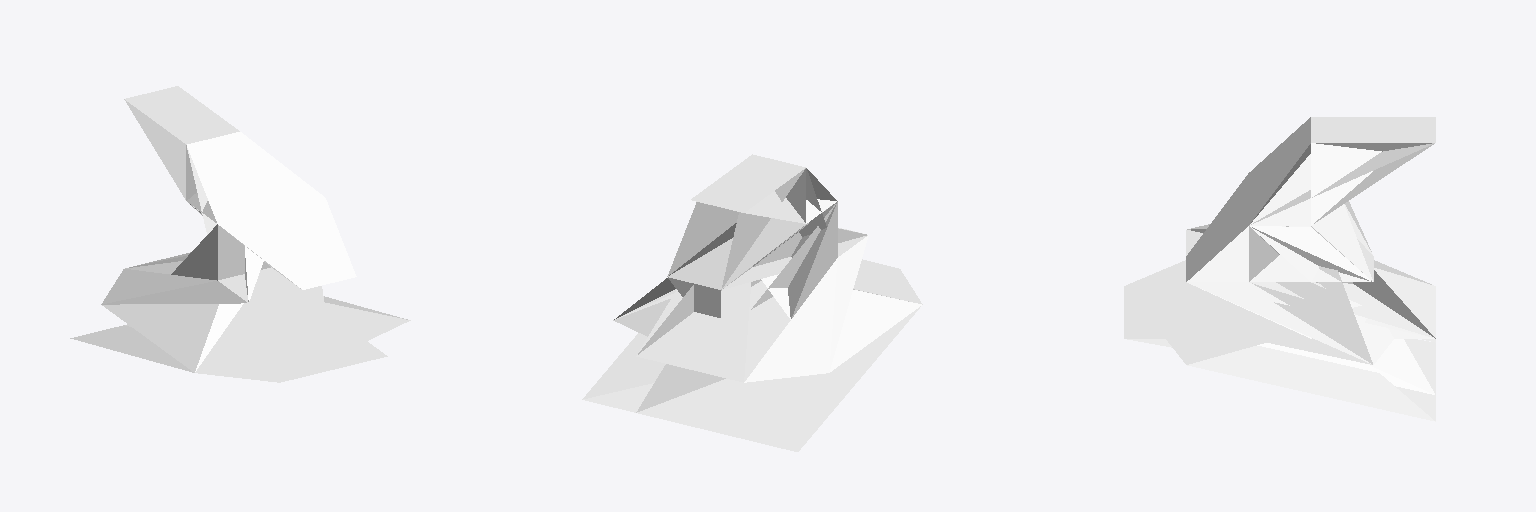
Rendered from SwordGoblin_Attack0.obj.
3 views of the same model, side by side, from view 1: azimuth 30°, elevation 25°; view 2: azimuth 150°, elevation 25°; view 3: azimuth 270°, elevation 25° (orthographic).
Size of the model in its own units: 4 by 4 by 5.